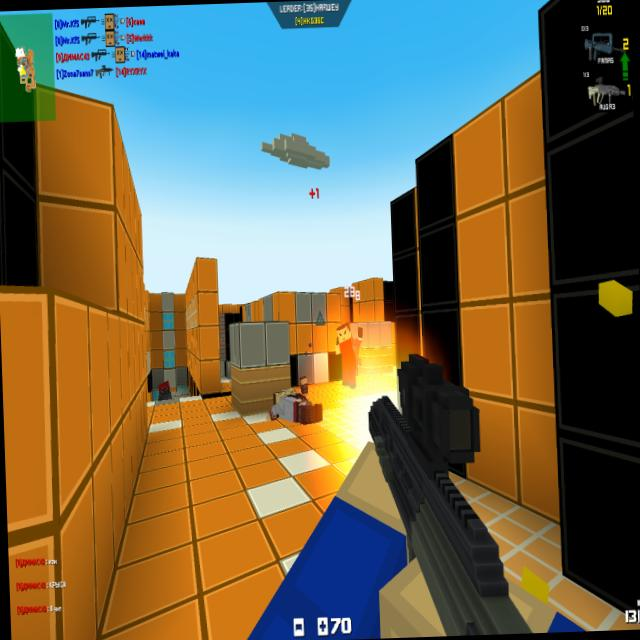enemy: (334, 321, 357, 390), (157, 380, 172, 402)
